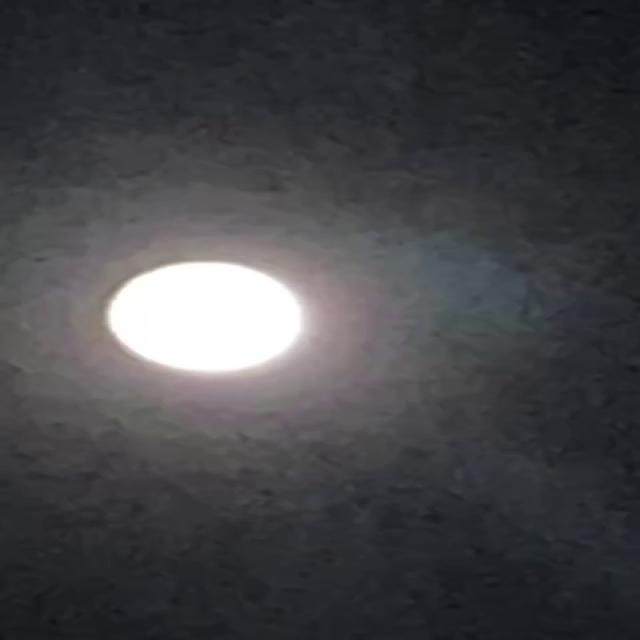moon: (93, 259, 319, 380)
